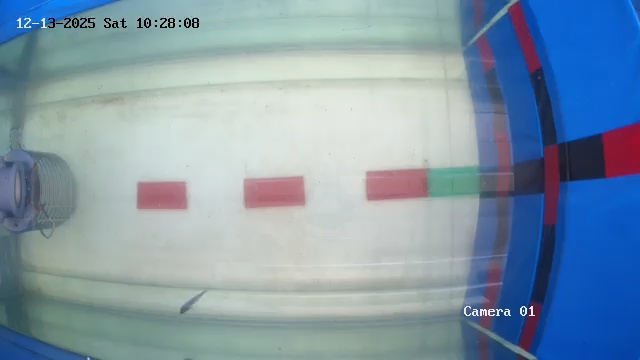fish: (175, 292, 210, 317)
